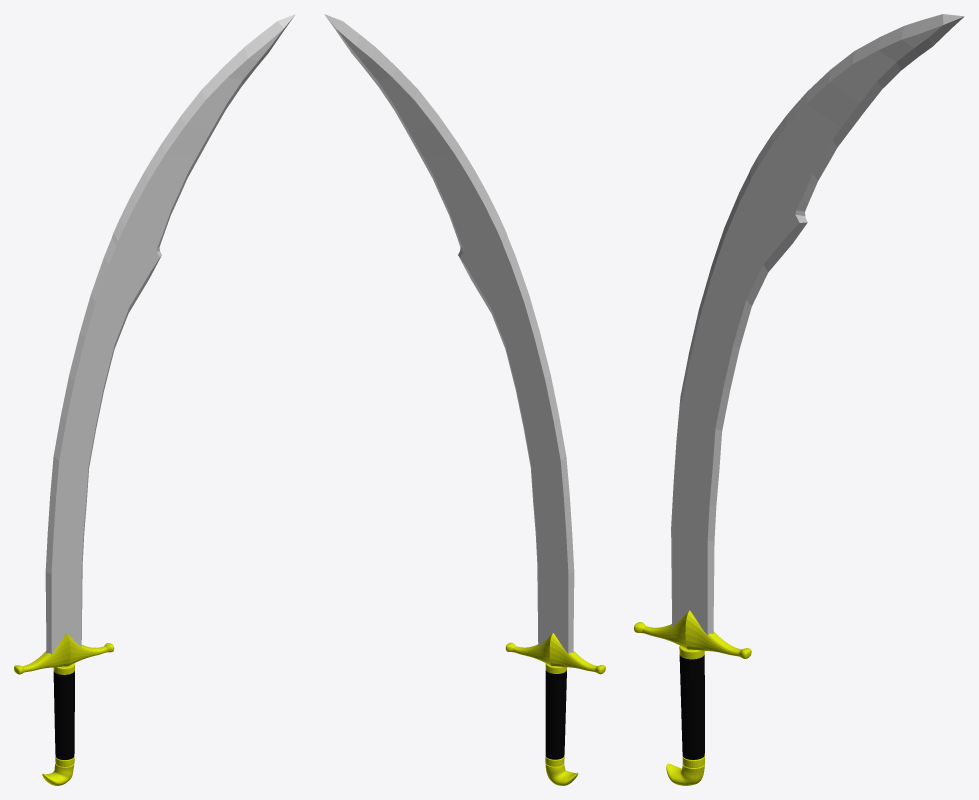
File: Falchion.fbx
The picture shows the model from 3 angles, left to right: view 1: azimuth 30°, elevation 25°; view 2: azimuth 150°, elevation 25°; view 3: azimuth 330°, elevation 25°; orthographic projection. The views are drawn at different scales.
Parts seen in each view (by area): view 1: Cube, Cabo, ParaMao; view 2: Cube, Cabo, ParaMao; view 3: Cube, Cabo, ParaMao.
Boxes of the visible parts, <box> form: Cube: <box>45,14,295,654</box>; Cabo: <box>42,663,74,785</box>; ParaMao: <box>14,633,114,674</box>; Cube: <box>324,14,574,653</box>; Cabo: <box>545,663,578,785</box>; ParaMao: <box>505,633,605,674</box>; Cube: <box>671,14,964,635</box>; Cabo: <box>666,645,704,785</box>; ParaMao: <box>634,610,751,658</box>.
Bounding box in the file's own units: 241 × 585 × 18.65.
